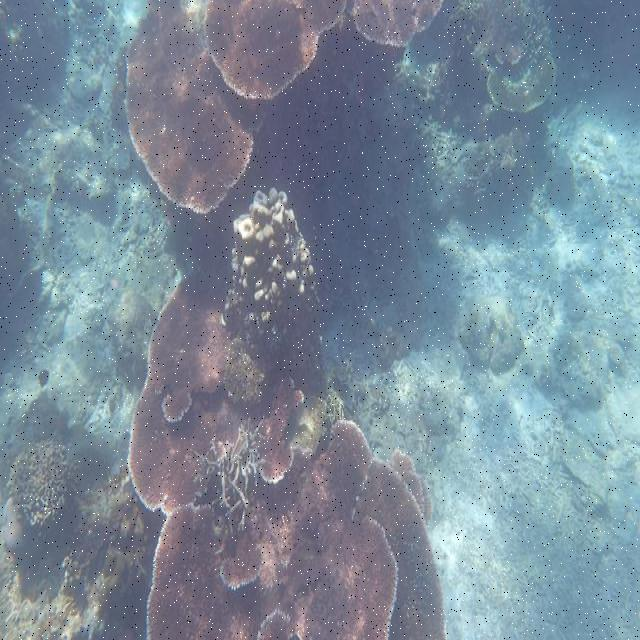reefs: (146, 420, 447, 639), (127, 261, 324, 514), (125, 1, 268, 215), (223, 187, 316, 345), (205, 0, 348, 100), (8, 437, 81, 533), (352, 1, 444, 46)
